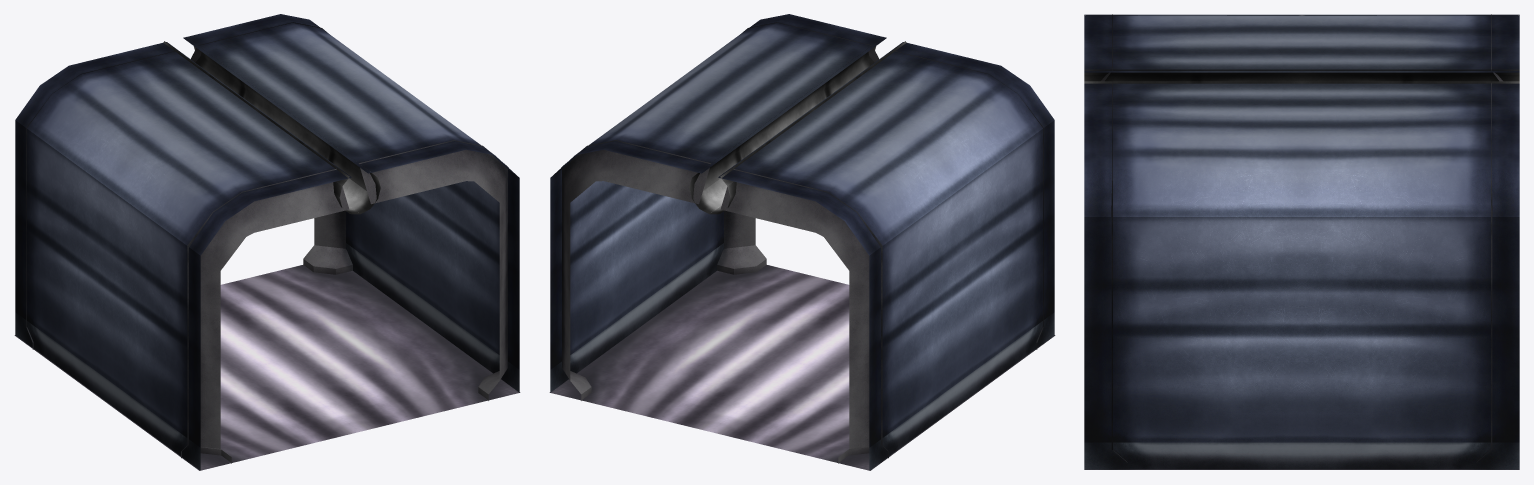
The model's file is hall0.glb.
3 renders of one model, left to right at view 1: azimuth 30°, elevation 25°; view 2: azimuth 150°, elevation 25°; view 3: azimuth 270°, elevation 25°, orthographic. The views are drawn at different scales.
Visible parts, largest first — view 1: hall0; view 2: hall0; view 3: hall0.
Part boxes in pixels (x1,y1,x2,y2): hall0: [14, 14, 520, 470]; hall0: [549, 14, 1055, 470]; hall0: [1084, 14, 1519, 469].
Bounding box in the file's own units: 20 × 15.38 × 20.
Materials: 1 (1 with a texture image).
